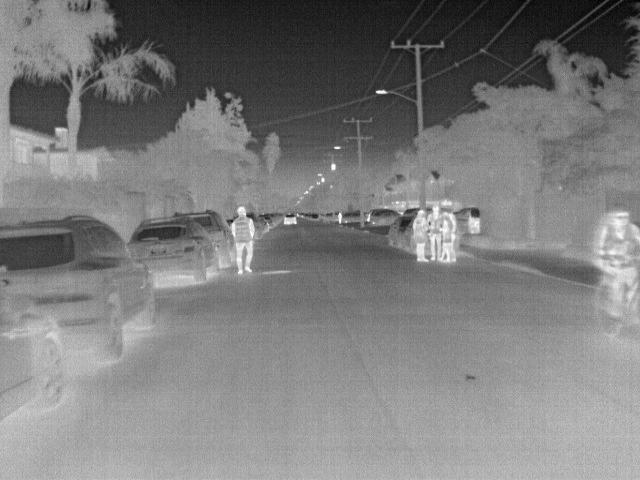car: (3, 215, 151, 359), (1, 267, 64, 424), (129, 220, 219, 282), (173, 208, 234, 269), (387, 216, 414, 248), (365, 208, 402, 225), (402, 222, 415, 255), (259, 213, 275, 229), (282, 211, 298, 224)
person: (595, 206, 639, 322), (231, 204, 255, 276), (427, 200, 445, 260), (440, 210, 458, 262), (415, 209, 430, 261), (336, 210, 344, 227)
